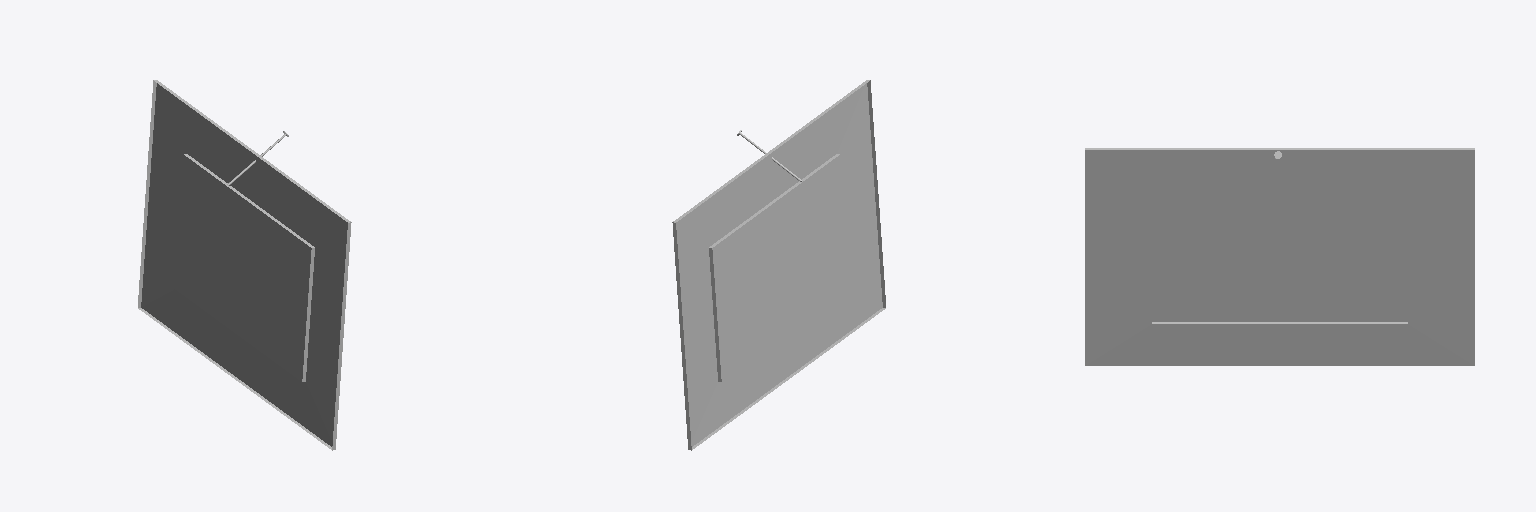
Rendered from obraz nad lozkiem5.obj.
The picture shows the model from 3 angles: view 1: azimuth 30°, elevation 25°; view 2: azimuth 150°, elevation 25°; view 3: azimuth 270°, elevation 25°; orthographic projection.
Visible parts, largest first — view 1: Plane.005; view 2: Plane.005; view 3: Plane.005.
Boxes of the visible parts, box(x1,y1,x2,y2) form: Plane.005: box(138, 80, 351, 450); Plane.005: box(672, 80, 885, 450); Plane.005: box(1085, 148, 1474, 365).
Bounding box in the file's own units: 0.0877 × 0.3166 × 0.4712.